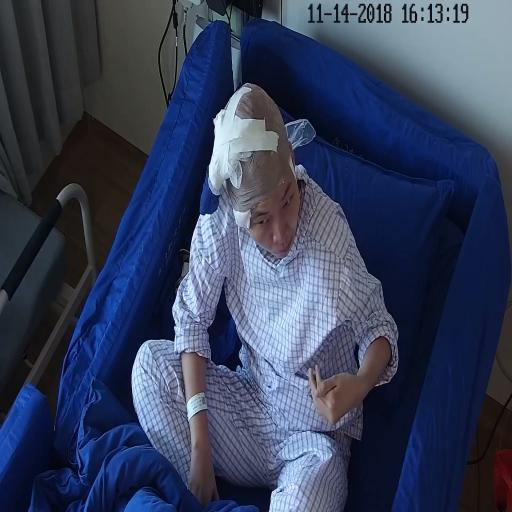Seizure: (227, 124, 299, 263)
